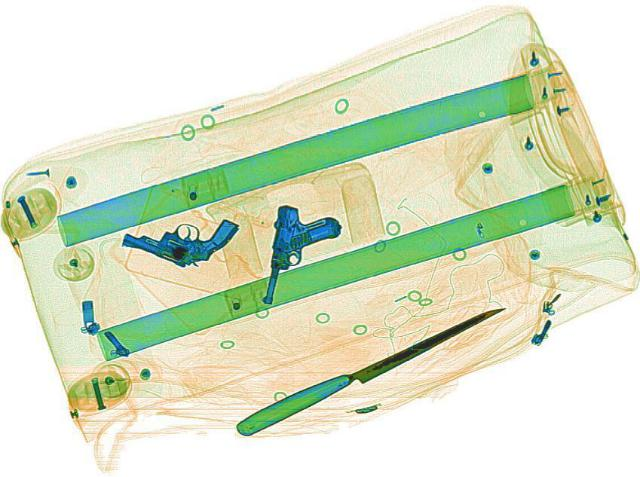Gun: (114, 193, 242, 274), (257, 202, 343, 307)
Knife: (226, 297, 509, 437)
